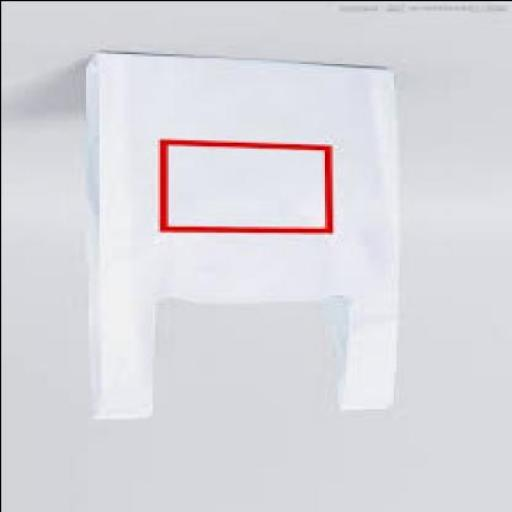plastic: (85, 53, 397, 422)
